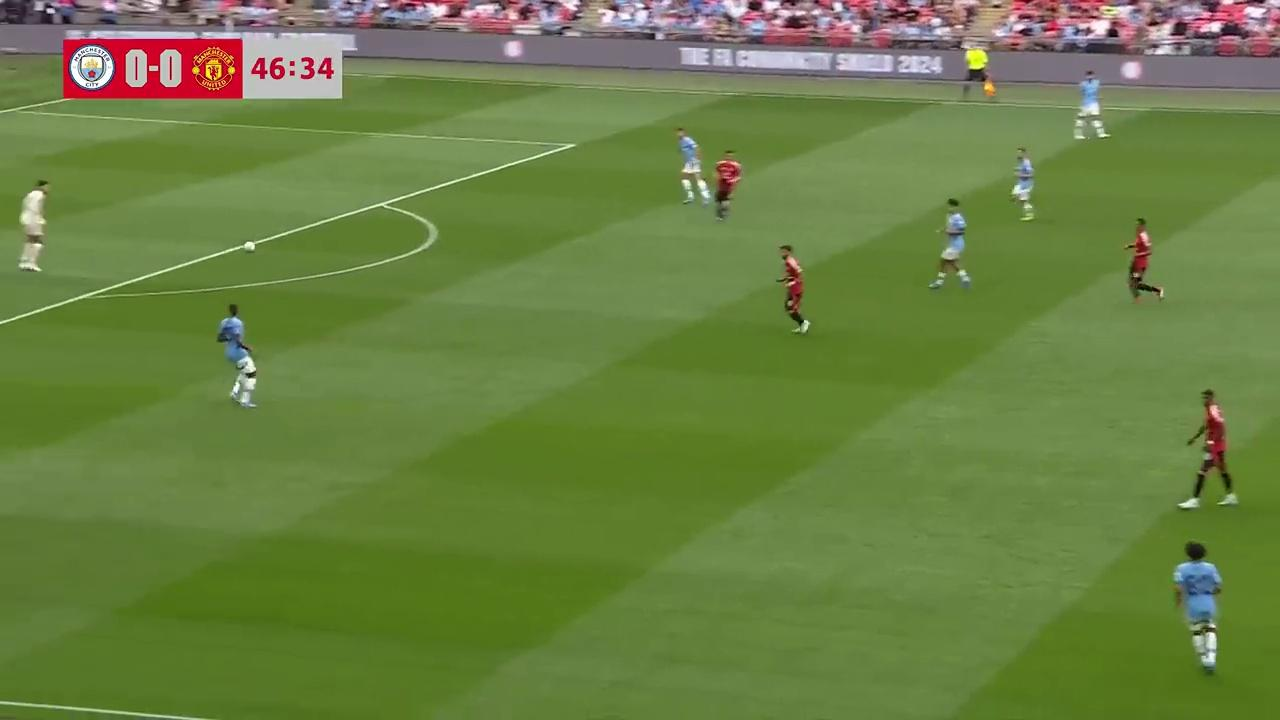ball: (244, 238, 258, 259)
player: (1176, 387, 1240, 509), (1172, 540, 1223, 673), (216, 302, 258, 408), (927, 199, 972, 290), (1122, 218, 1163, 303), (17, 179, 50, 272), (776, 245, 810, 334), (676, 128, 710, 205), (1074, 69, 1109, 139), (713, 150, 742, 221), (1011, 146, 1035, 220)
referee: (962, 43, 997, 101)
